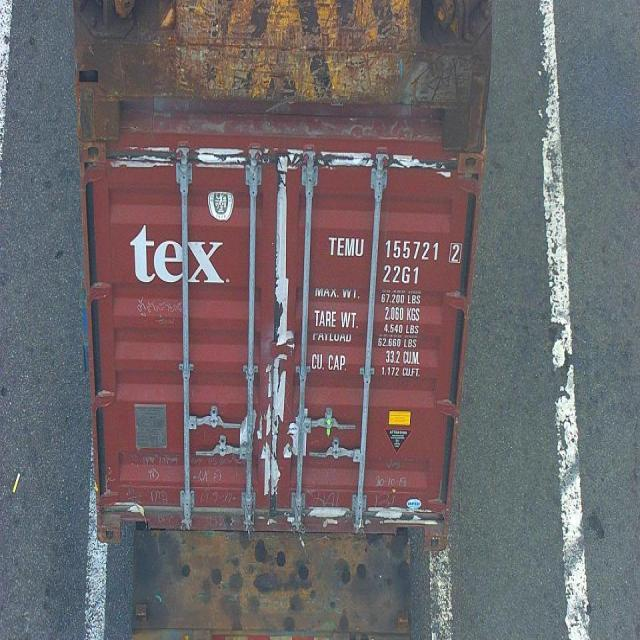ISO: (384, 265, 420, 285)
container_number: (325, 230, 465, 270)
